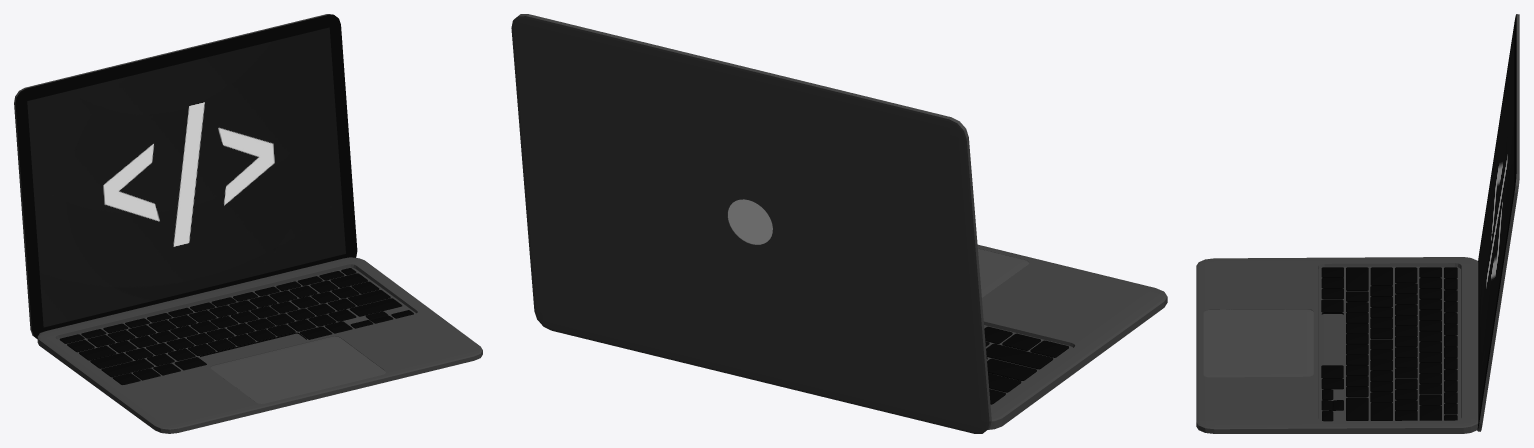
The model's file is macbook.glb.
3 renders of one model, left to right at view 1: azimuth 30°, elevation 25°; view 2: azimuth 150°, elevation 25°; view 3: azimuth 270°, elevation 25°, orthographic. The views are drawn at different scales.
Parts seen in each view (by area): view 1: Screen, Body, TrackPad, Keyboard, Shift2, Shift1; view 2: Screen, Body, TrackPad, Shift1, Caps Locks; view 3: Body, Screen, TrackPad, Keyboard, Shift1, Shift2, Caps Locks, enter, Tab, Delete, cmd1, cmd2.
Boxes of the visible parts, box(x1,y1,x2,y2) form: Screen: box(14, 14, 357, 339); Body: box(37, 257, 482, 433); TrackPad: box(210, 336, 385, 403); Keyboard: box(57, 267, 416, 384); Shift2: box(349, 298, 402, 316); Shift1: box(101, 358, 153, 377); Screen: box(511, 14, 991, 433); Body: box(977, 244, 1167, 429); TrackPad: box(978, 248, 1028, 297); Shift1: box(986, 343, 1053, 369); Caps Locks: box(987, 358, 1036, 380); Body: box(1196, 257, 1478, 433); Screen: box(1477, 14, 1519, 431); TrackPad: box(1203, 309, 1313, 377); Keyboard: box(1318, 266, 1460, 421); Shift1: box(1346, 267, 1368, 290); Shift2: box(1346, 397, 1368, 420); Caps Locks: box(1370, 267, 1392, 285); enter: box(1370, 402, 1392, 420); Tab: box(1395, 267, 1417, 283); Delete: box(1419, 405, 1441, 420); cmd1: box(1321, 299, 1343, 312); cmd2: box(1321, 365, 1343, 378).
Size of the model in its own units: 4.74 by 3.32 by 3.79.
6 materials, 1 textured.
